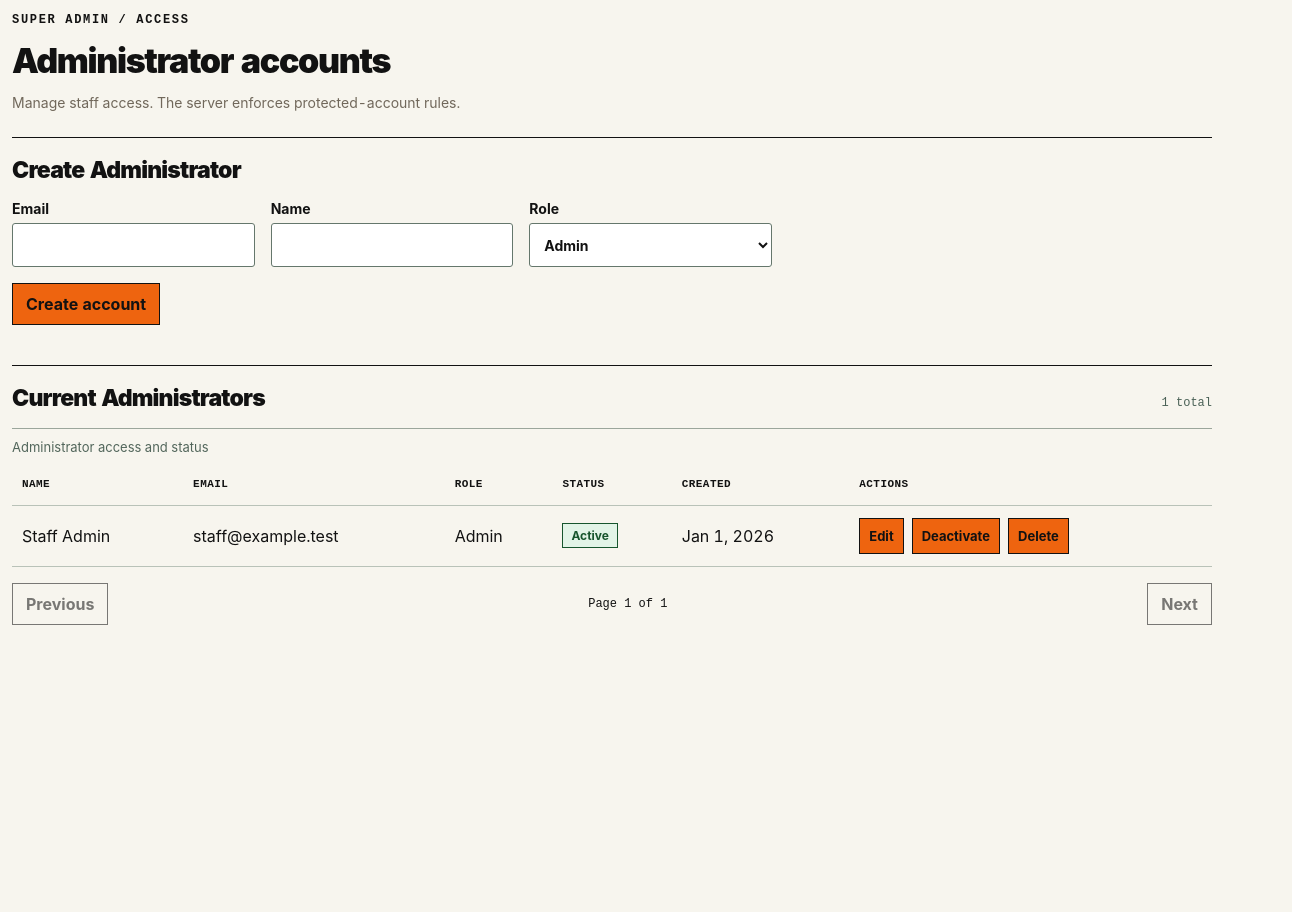
Super Admin account management › reports a duplicate email conflict and refreshes the list
expect the text "staff@example.test" is shown: met, box [183, 505, 445, 566]
Type "staff@example.test" into the field labelled "Email" at (133,245), box [12, 223, 255, 267]
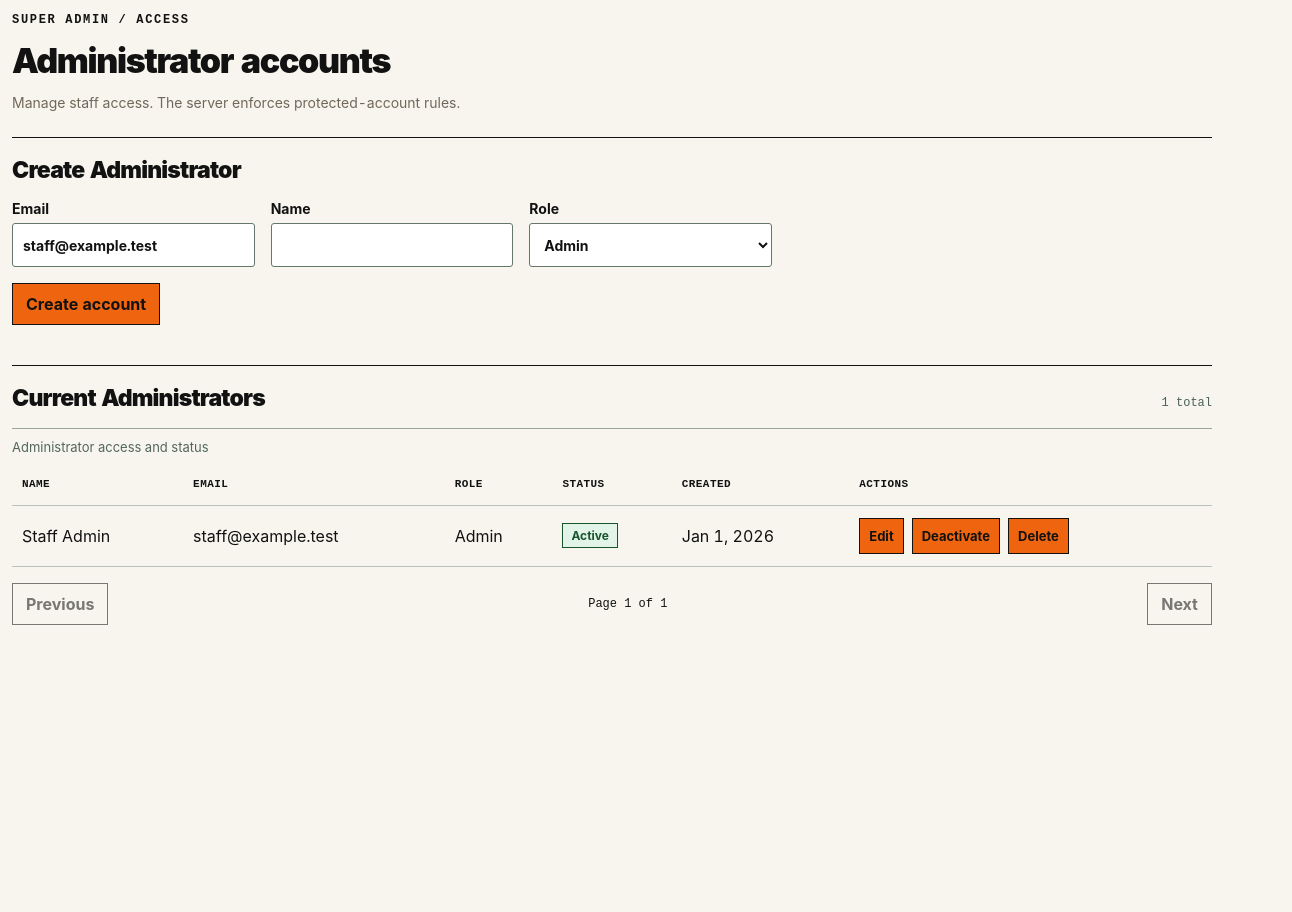
Type "Staff" into the field labelled "Name" at (392,245), box [271, 223, 513, 267]
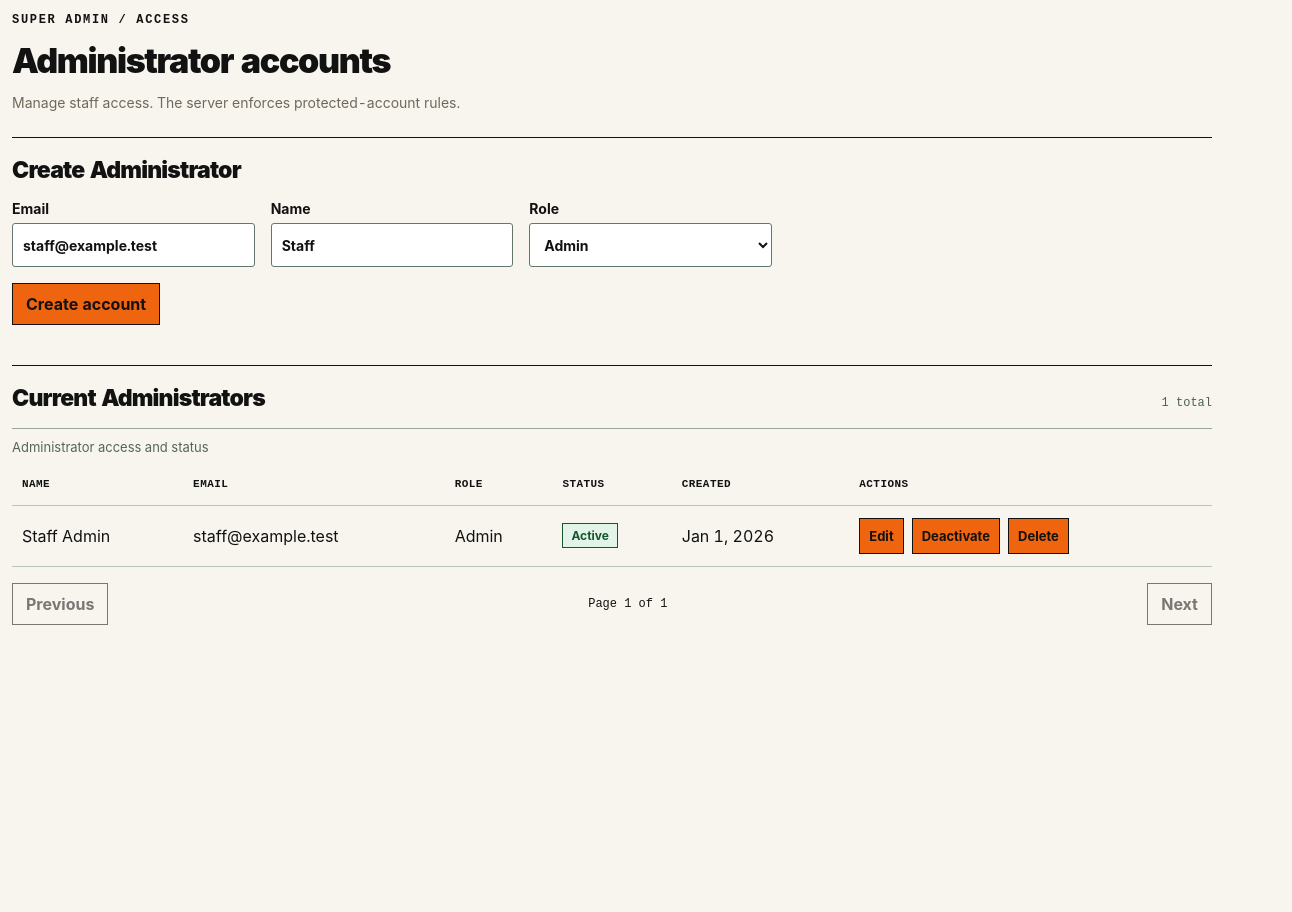
Click the button "Create account" at (86,304), box [12, 283, 160, 325]
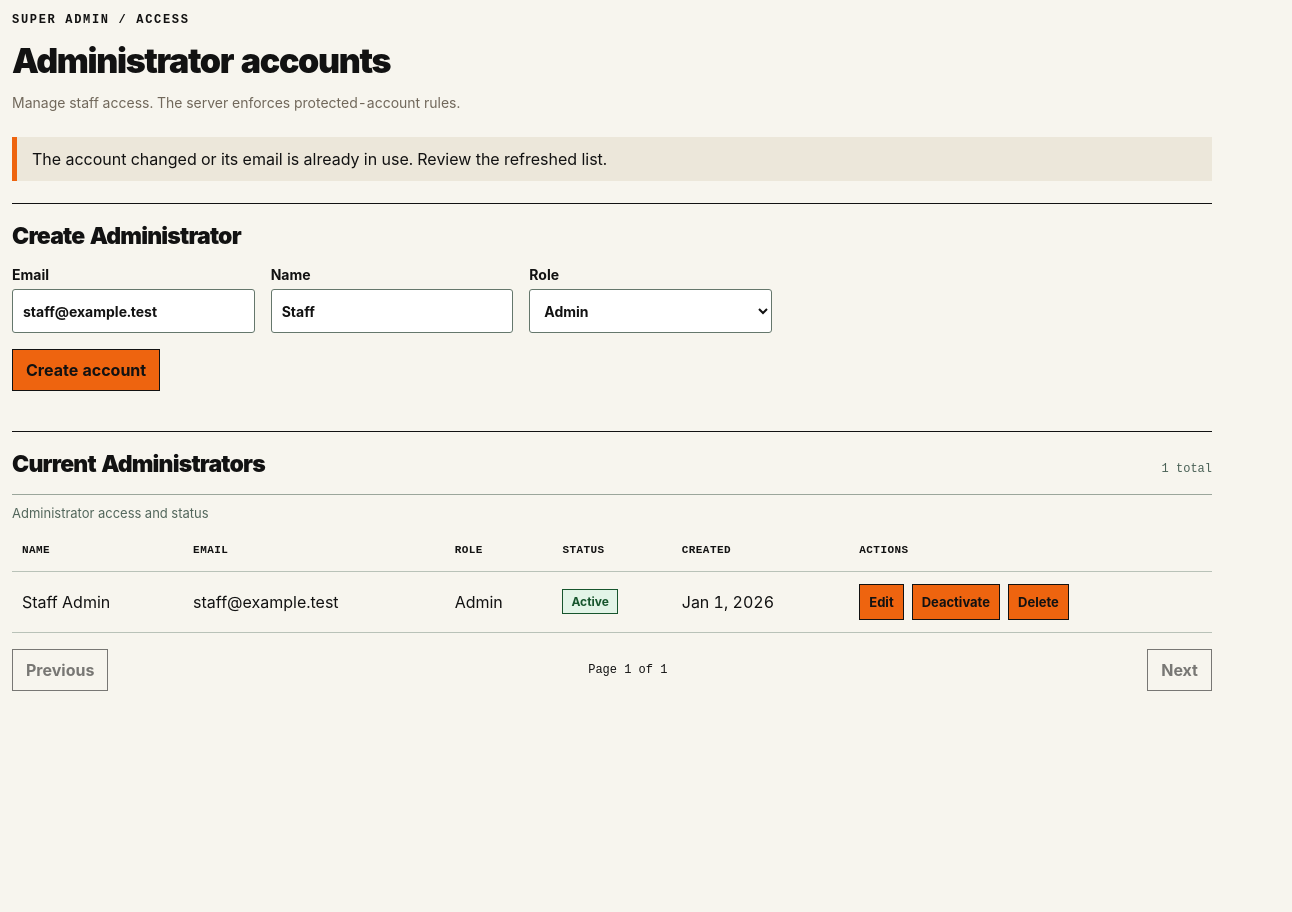
expect the message shows "email is already in use": met, box [32, 149, 607, 169]
